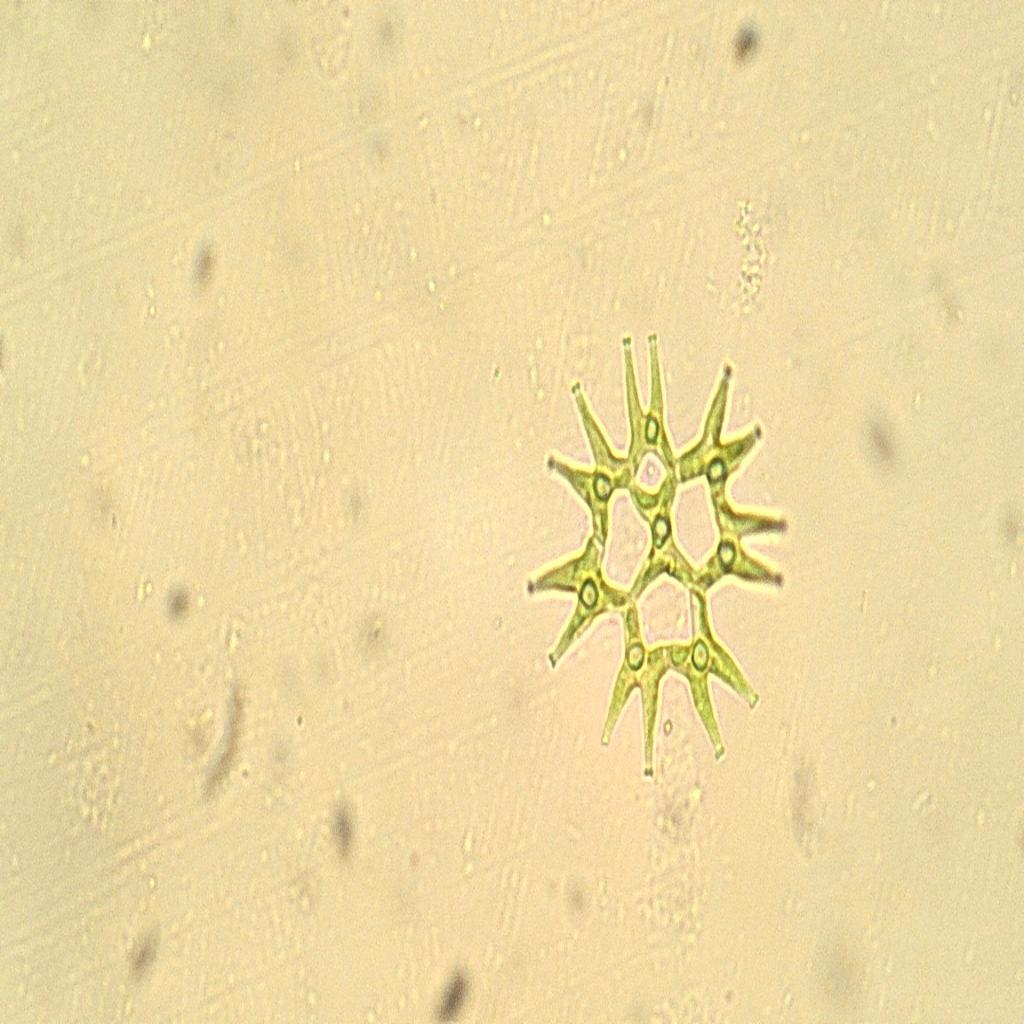Pediastrum_CTH: (516, 317, 807, 807)
